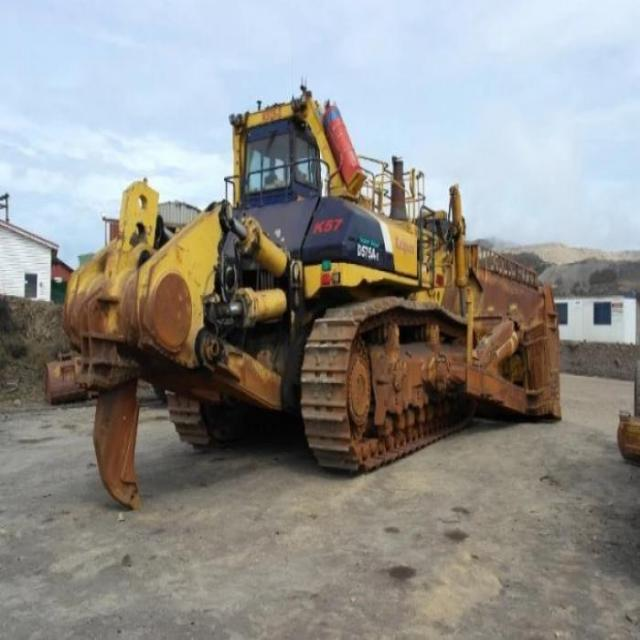Bulldozer: (41, 65, 616, 557)
